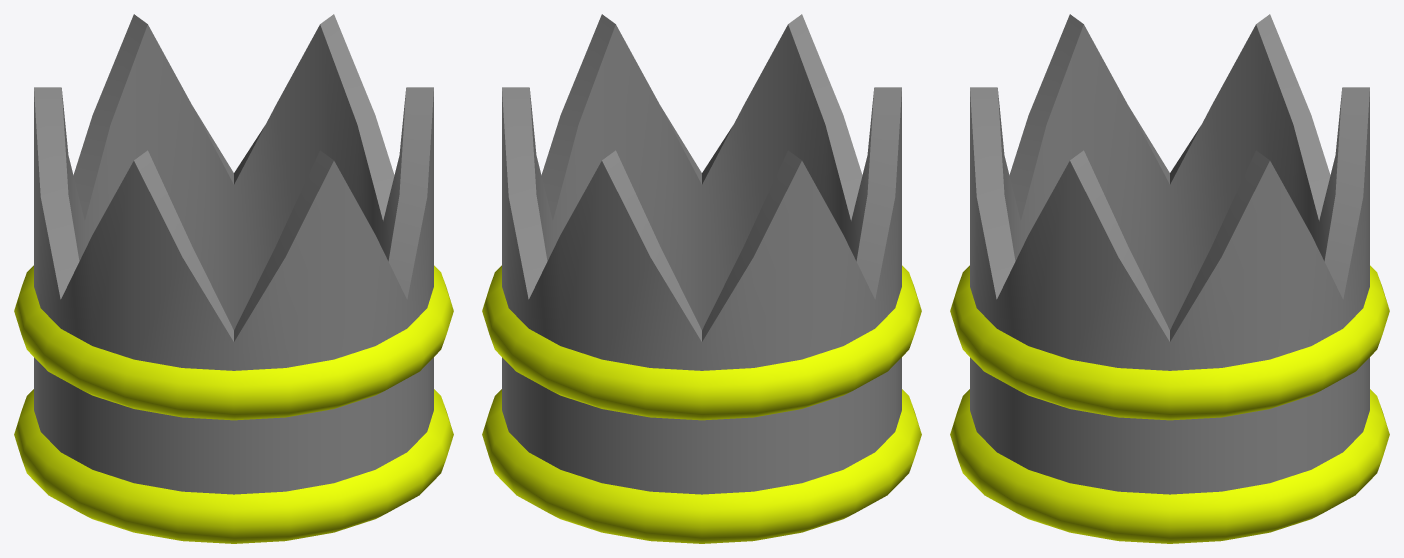
The model's file is Crown.FBX.
The picture shows the model from 3 angles, left to right: view 1: azimuth 30°, elevation 25°; view 2: azimuth 150°, elevation 25°; view 3: azimuth 270°, elevation 25°; orthographic projection.
Parts seen in each view (by area): view 1: crown_chimney; view 2: crown_chimney; view 3: crown_chimney.
Part boxes in pixels (x1,y1,x2,y2): crown_chimney: (14,14,453,543); crown_chimney: (482,14,921,543); crown_chimney: (950,14,1389,543).
Bounding box in the file's own units: 44.2 × 41.28 × 44.2.
